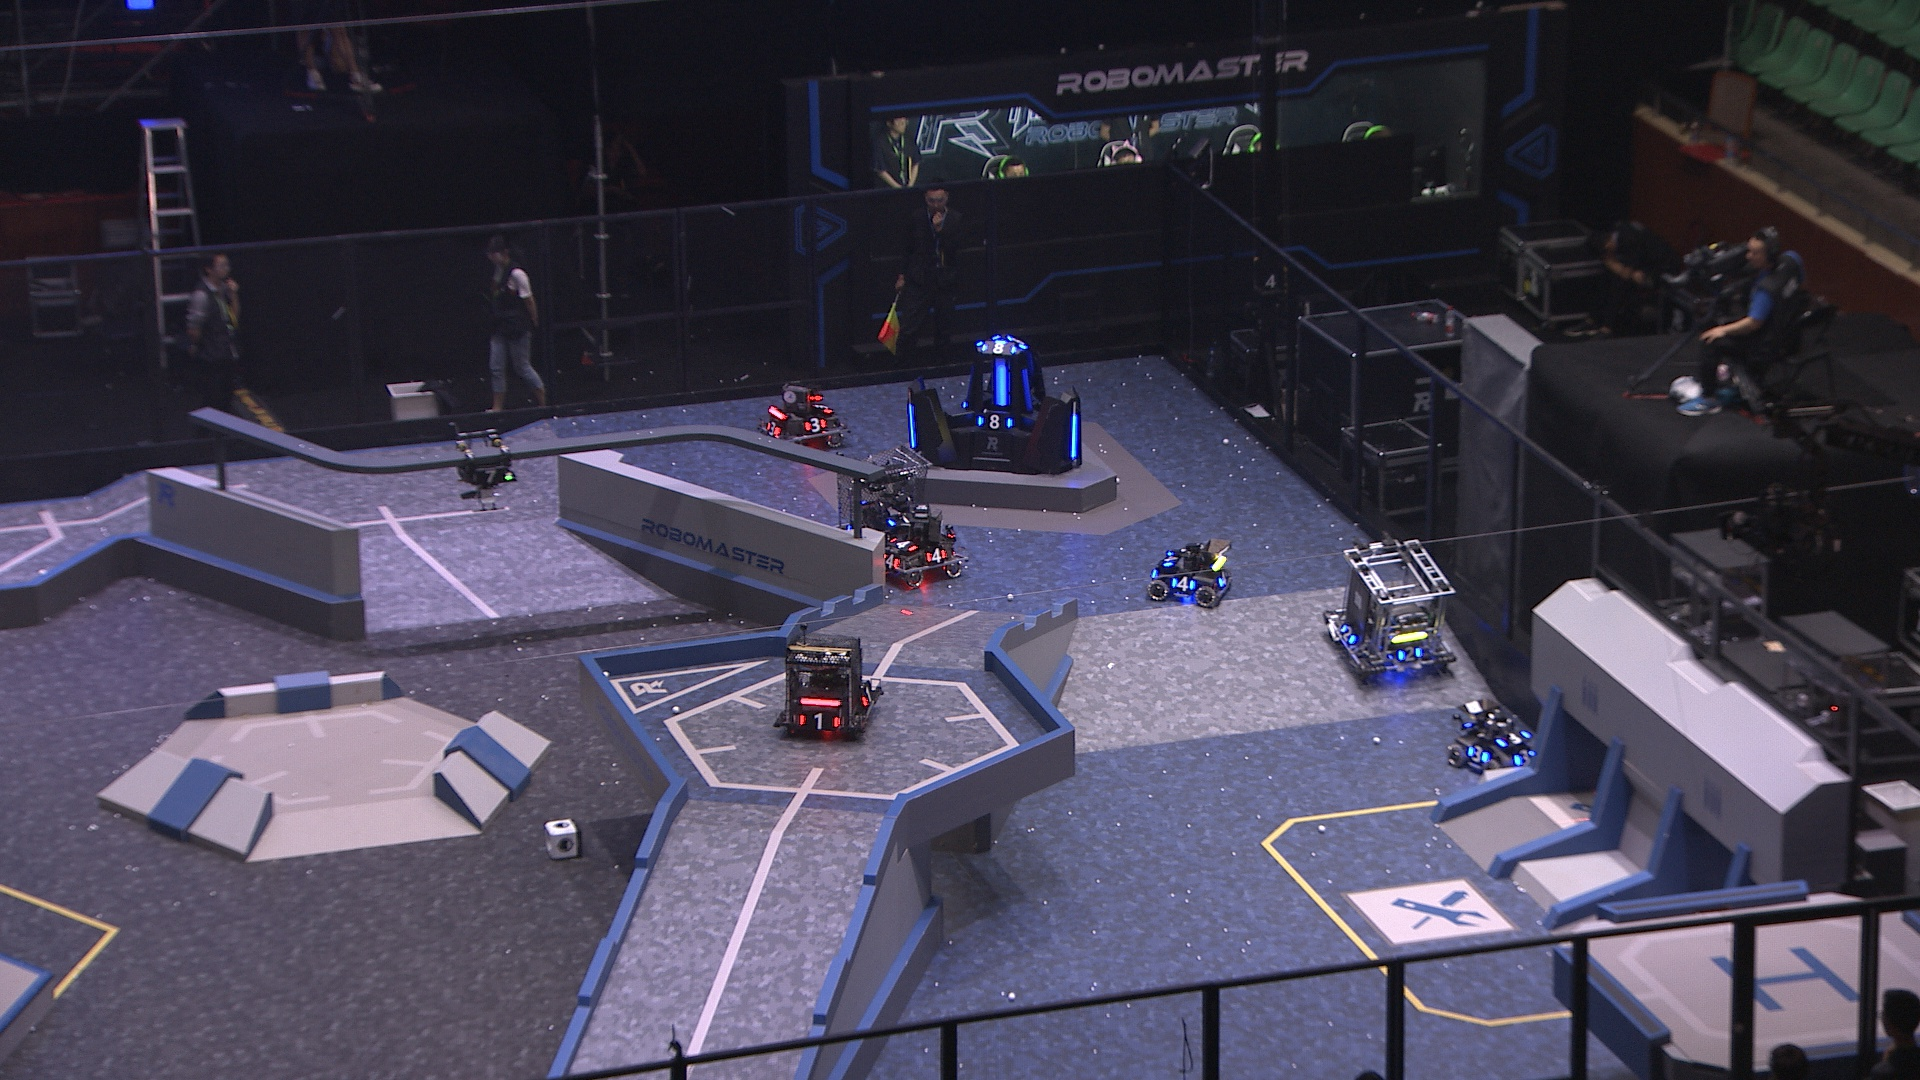armor: (793, 709, 844, 737), (469, 465, 514, 488), (975, 411, 1015, 434), (1495, 727, 1534, 746), (992, 365, 1010, 406), (922, 543, 953, 567), (1393, 641, 1424, 665), (1168, 571, 1197, 595), (982, 338, 1019, 356), (887, 534, 918, 556), (1069, 411, 1083, 460), (858, 680, 880, 711), (1466, 742, 1491, 767), (799, 415, 825, 436), (907, 404, 920, 446), (1335, 621, 1358, 644), (764, 418, 785, 443), (1513, 745, 1538, 766), (1021, 368, 1033, 409), (880, 551, 902, 572), (1212, 570, 1233, 589), (1156, 549, 1178, 567), (808, 400, 835, 414)
base: (905, 332, 1087, 476)
car: (1325, 538, 1458, 680), (769, 626, 884, 744), (831, 446, 939, 556), (1443, 690, 1542, 782), (752, 376, 845, 455), (872, 509, 967, 585), (1145, 534, 1232, 609)
watcher: (448, 425, 520, 514)
